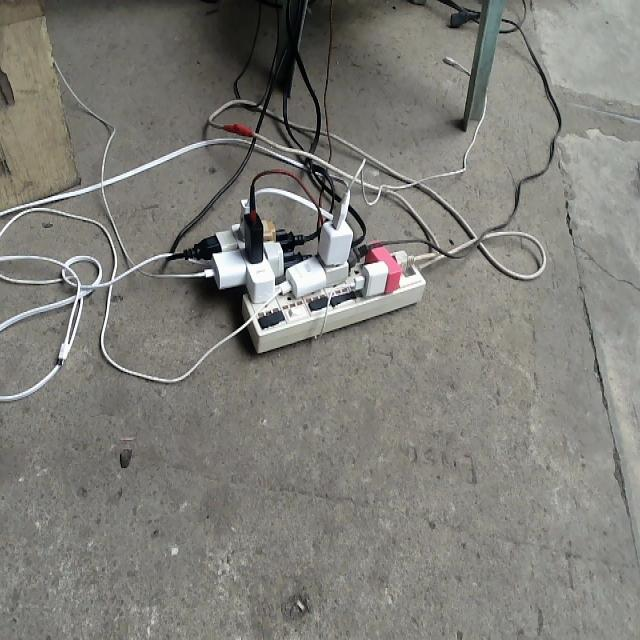-: (199, 186, 428, 354)
